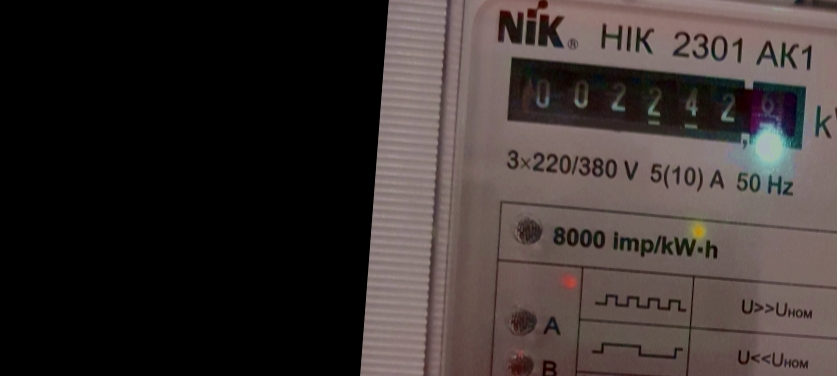0: (533, 76, 556, 111), (572, 77, 593, 111)
2: (610, 80, 631, 113), (646, 84, 666, 118), (720, 91, 739, 124)
4: (685, 85, 703, 118)
6: (761, 88, 778, 117)
screen: (496, 46, 820, 160)
